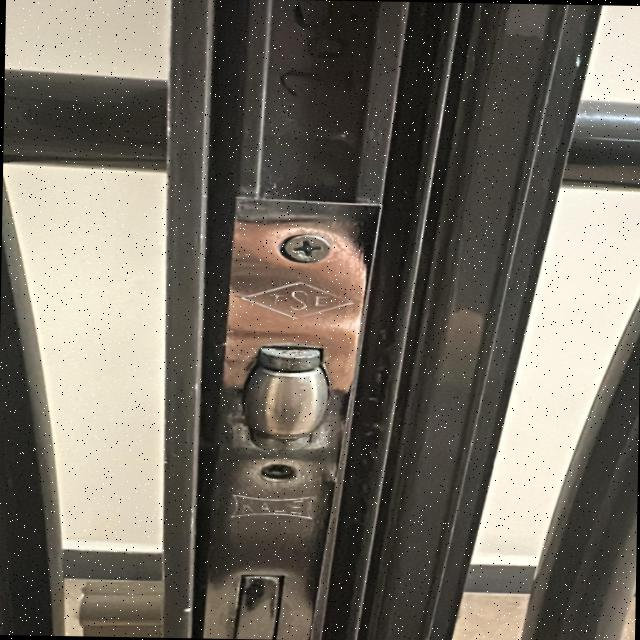Phillips: (281, 234, 328, 261)
